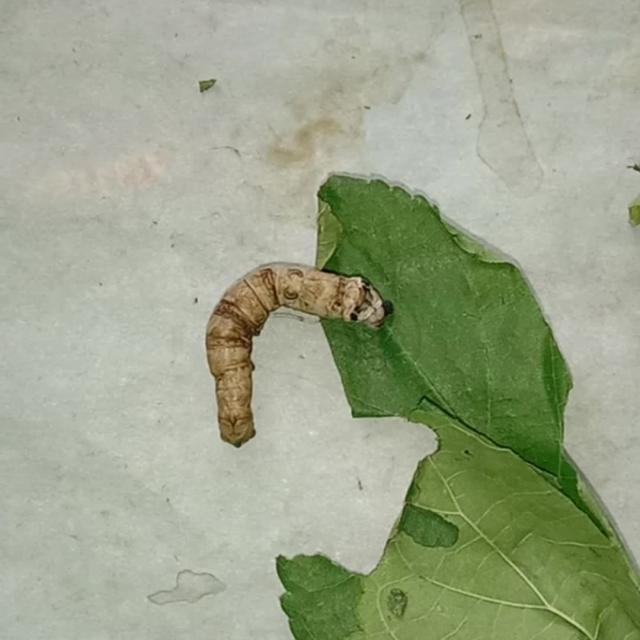Grasserie: (187, 250, 396, 454)
